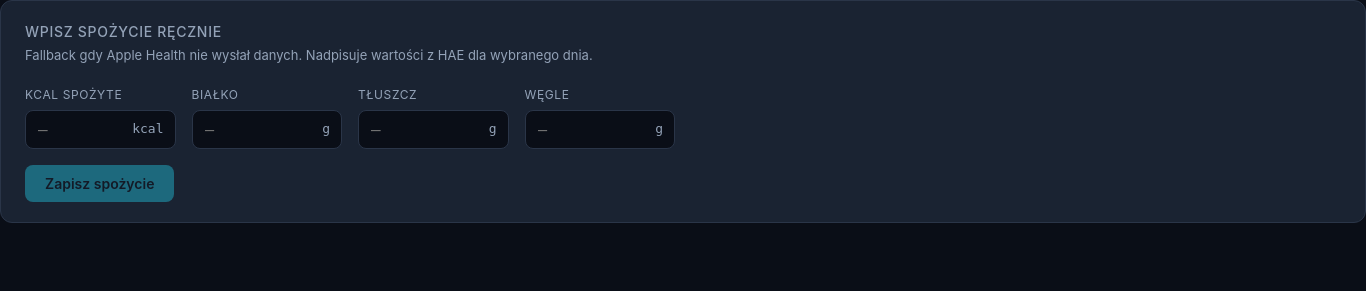
Test case: ManualNutritionCard › happy submit — kcal_in only → wysyła {date, kcal_in}
The width and height of the screenshot is (1366, 291).
Type "2200" into the number field labelled "Kcal spożyte" at (100, 129), box [25,110,176,148]
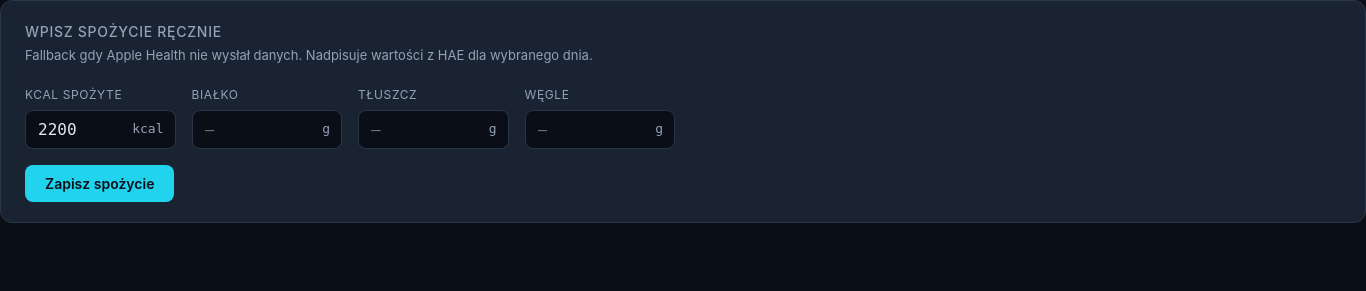
Click the button "Zapisz spożycie" at (100, 183), box [25,164,174,202]
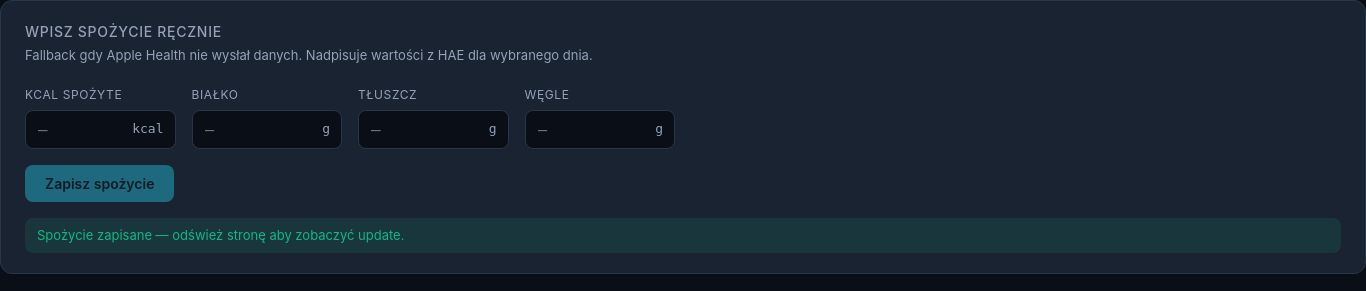
Check: the message shows "Spożycie zapisane", box [37,226,404,242]
